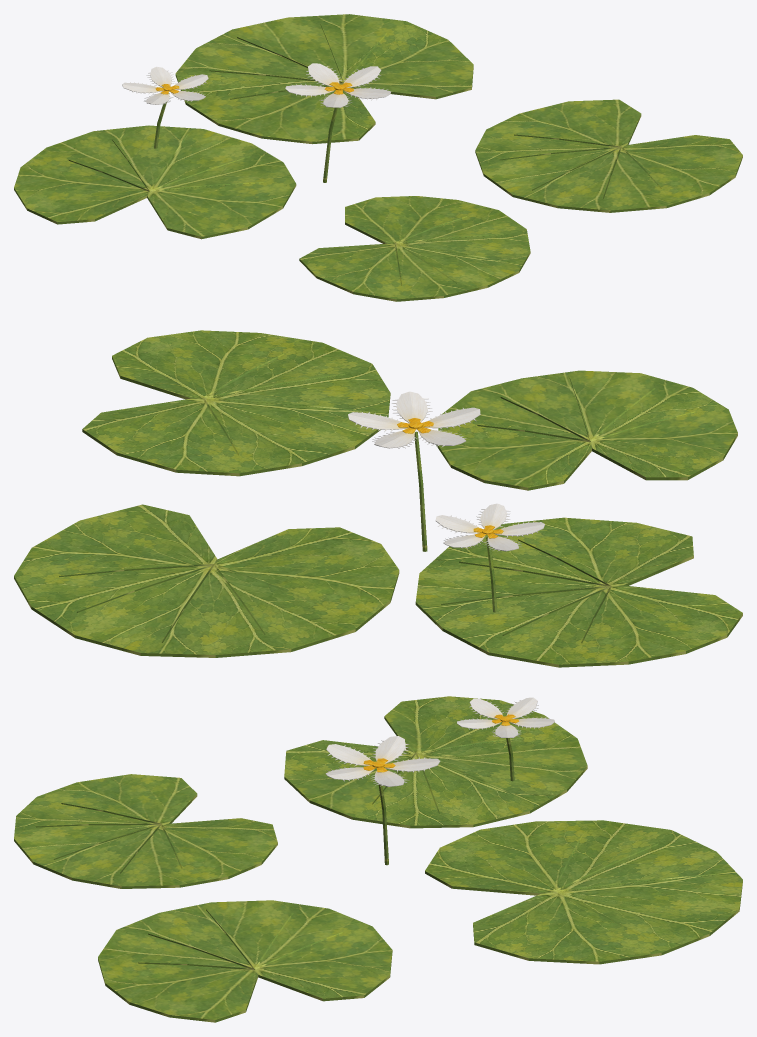
File: SM_Nymphoides_A.fbx
3 views of the same model, one above another, from view 1: azimuth 30°, elevation 25°; view 2: azimuth 150°, elevation 25°; view 3: azimuth 270°, elevation 25° (orthographic). The views are drawn at different scales.
Parts seen in each view (by area): view 1: SM_Nymphoides_A; view 2: SM_Nymphoides_A; view 3: SM_Nymphoides_A.
Part boxes in pixels (x1,y1,x2,y2): SM_Nymphoides_A: (14, 14, 742, 301); SM_Nymphoides_A: (14, 330, 742, 667); SM_Nymphoides_A: (14, 696, 742, 1022).
Bounding box in the file's own units: 0.2658 × 0.2526 × 0.042.
1 material, 1 textured.
